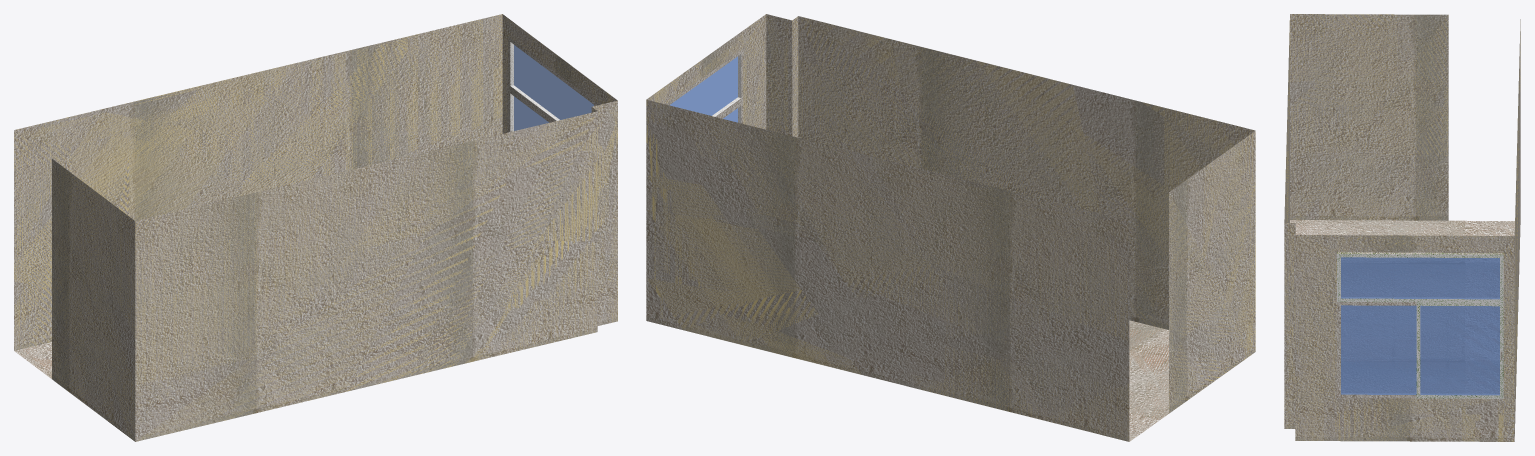
File: DES008.obj
The picture shows the model from 3 angles, left to right: view 1: azimuth 30°, elevation 25°; view 2: azimuth 150°, elevation 25°; view 3: azimuth 270°, elevation 25°; orthographic projection. The views are drawn at different scales.
Parts seen in each view (by area): view 1: Mesh7 DES008 Model, Mesh1 ventana1_1_1 DES008 Model; view 2: Mesh7 DES008 Model, Mesh1 ventana1_1_1 DES008 Model; view 3: Mesh7 DES008 Model, Mesh1 ventana1_1_1 DES008 Model.
Part boxes in pixels (left/top/right/bottom): Mesh7 DES008 Model: left=14, top=14, right=617, bottom=441; Mesh1 ventana1_1_1 DES008 Model: left=508, top=37, right=595, bottom=132; Mesh7 DES008 Model: left=646, top=14, right=1255, bottom=441; Mesh1 ventana1_1_1 DES008 Model: left=665, top=49, right=743, bottom=123; Mesh7 DES008 Model: left=1284, top=14, right=1520, bottom=441; Mesh1 ventana1_1_1 DES008 Model: left=1337, top=252, right=1503, bottom=398.
Bounding box in the file's own units: 6.98 × 3 × 3.12.
7 materials, 2 textured.
